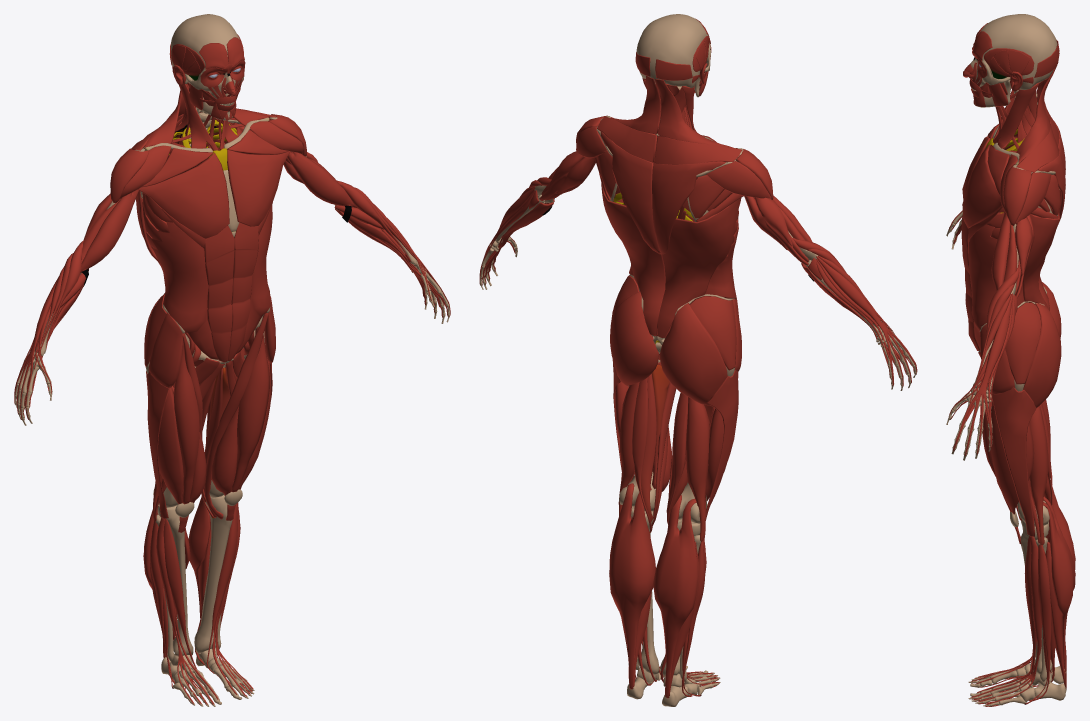
The model's file is ecorche.glb.
The picture shows the model from 3 angles, left to right: view 1: azimuth 30°, elevation 25°; view 2: azimuth 150°, elevation 25°; view 3: azimuth 270°, elevation 25°; orthographic projection.
Parts seen in each view (by area): view 1: Pectoralis_Major_Clavicular_Sternocostal_Abdominal, External_Oblique, Rectus_Abdominis, Rectus_Femoris, Tibia, Deltoid_Anterior_Middle_Posterior, Biceps_Brachii, Sartorius, Tibialis_Anterior, Vastus_Lateralis, Tensor_Fascia_Lata, Skull (+15 smaller); view 2: Trapezius, Gastrocnemius_Lateral_Medial, Latissimus_Dorsi, Gluteus_Maximus, Biceps_Femoris_Long_Head, Skull, Deltoid_Anterior_Middle_Posterior, Triceps_Lateral_Long_Heads, Semitendinosus, Gluteus_Medius, Illiotibial_Tract, Semimembranosus (+13 smaller); view 3: Illiotibial_Tract, Skull, Pectoralis_Major_Clavicular_Sternocostal_Abdominal, Trapezius, Gastrocnemius_Lateral_Medial, Gluteus_Maximus, External_Oblique, Deltoid_Anterior_Middle_Posterior, Gluteus_Medius, Latissimus_Dorsi, Biceps_Femoris_Long_Head, Vastus_Lateralis (+32 smaller).
Boxes of the visible parts, x1,y1,x2,y2 form: Pectoralis_Major_Clavicular_Sternocostal_Abdominal: (137, 129, 290, 248); External_Oblique: (151, 205, 272, 359); Rectus_Abdominis: (204, 222, 258, 362); Rectus_Femoris: (173, 327, 269, 504); Tibia: (157, 495, 232, 656); Deltoid_Anterior_Middle_Posterior: (110, 114, 306, 202); Biceps_Brachii: (80, 151, 356, 286); Sartorius: (182, 313, 268, 526); Tibialis_Anterior: (163, 503, 237, 673); Vastus_Lateralis: (158, 357, 271, 504); Tensor_Fascia_Lata: (148, 296, 275, 388); Skull: (170, 14, 244, 98); Trapezius: (597, 76, 742, 254); Gastrocnemius_Lateral_Medial: (609, 483, 698, 698); Latissimus_Dorsi: (601, 183, 741, 337); Gluteus_Maximus: (610, 291, 727, 406); Biceps_Femoris_Long_Head: (618, 382, 709, 541); Skull: (636, 14, 710, 87); Deltoid_Anterior_Middle_Posterior: (576, 115, 773, 199); Triceps_Lateral_Long_Heads: (539, 151, 808, 265); Semitendinosus: (632, 377, 688, 532); Gluteus_Medius: (611, 275, 736, 370); Illiotibial_Tract: (612, 360, 738, 520); Semimembranosus: (634, 373, 687, 521); Illiotibial_Tract: (992, 387, 1036, 536); Skull: (970, 14, 1057, 89); Pectoralis_Major_Clavicular_Sternocostal_Abdominal: (962, 124, 1009, 239); Trapezius: (1016, 65, 1065, 224); Gastrocnemius_Lateral_Medial: (1043, 487, 1075, 688); Gluteus_Maximus: (1023, 282, 1061, 407); External_Oblique: (968, 212, 1024, 350); Deltoid_Anterior_Middle_Posterior: (1000, 106, 1051, 225); Gluteus_Medius: (1005, 302, 1040, 384); Latissimus_Dorsi: (1022, 210, 1059, 310); Biceps_Femoris_Long_Head: (1029, 405, 1048, 545); Vastus_Lateralis: (991, 401, 1034, 514).
Size of the model in its own units: 119 by 179 by 31.1.
